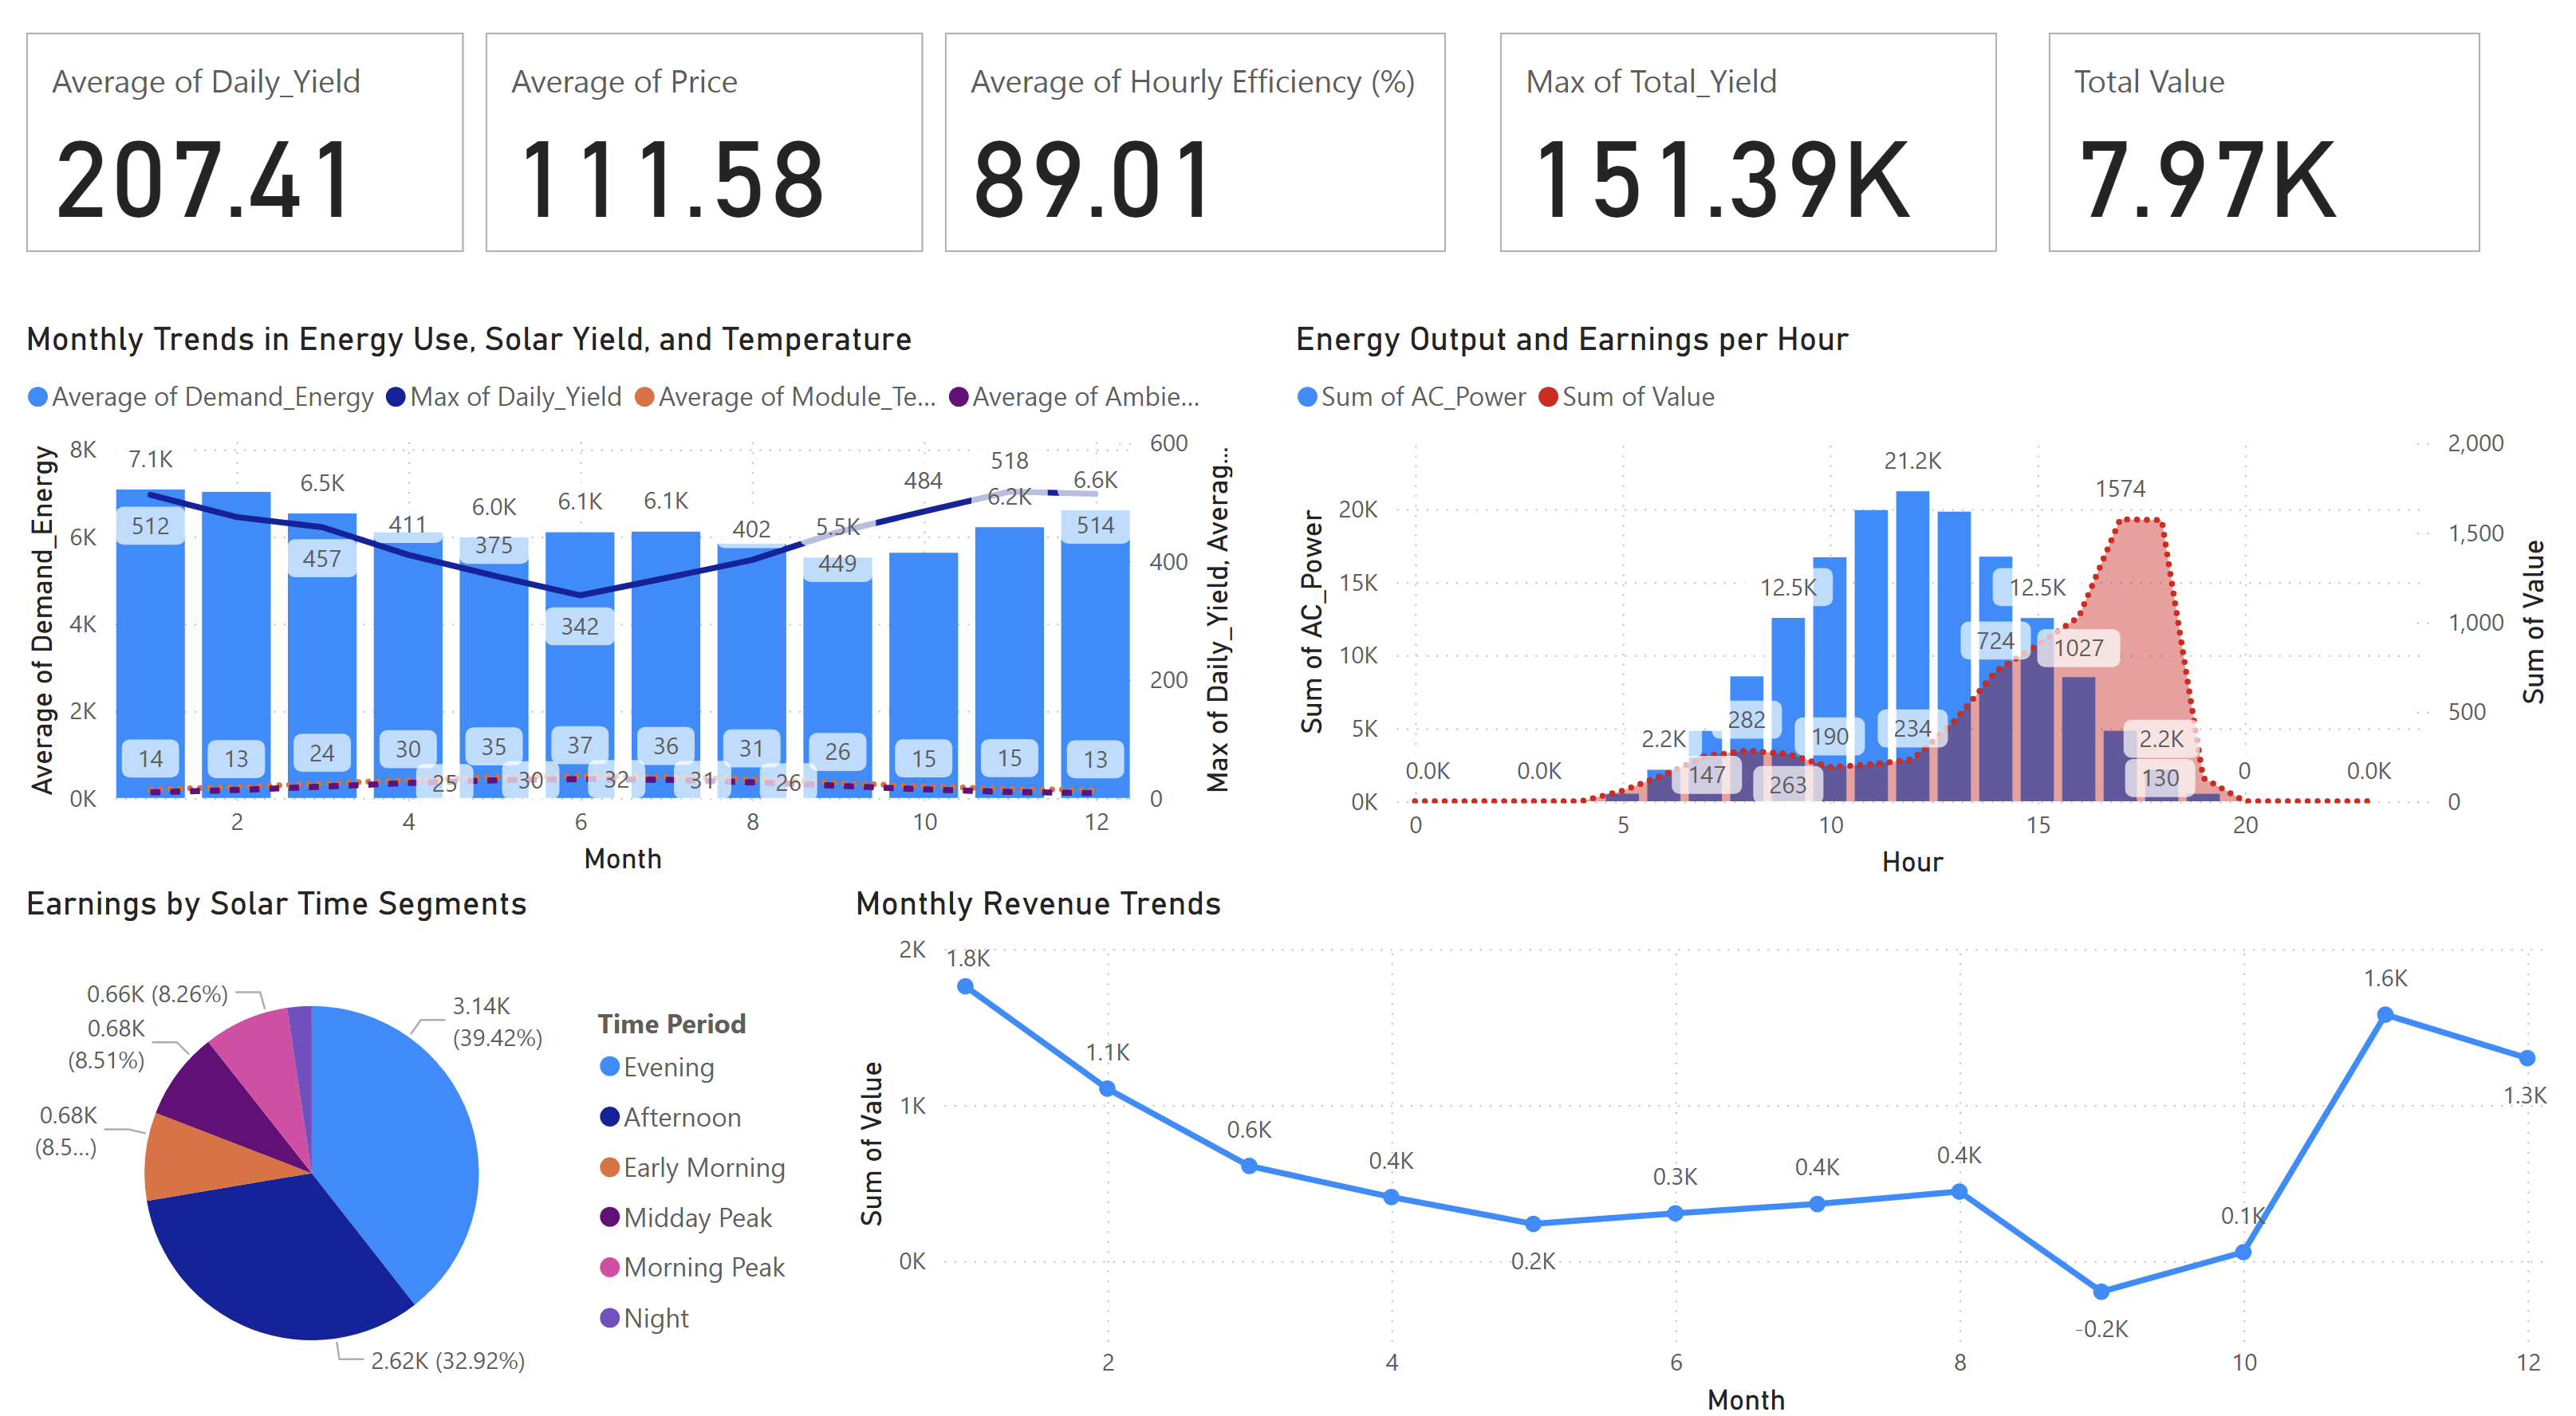

The page's visual inventory and layout, read from the dashboard file:
{"tool":"powerbi","page":{"name":"Page 1","canvas":[1280,720],"ordinal":0},"visuals":[{"type":"cardVisual","fields":{"Data":["solar_data_open.Total Value"]},"box":[1020,13.3,228.3,121.7],"z":0},{"type":"cardVisual","fields":{"Data":["Avg(solar_data_open.Hourly Efficiency (%))"]},"box":[463.3,13.3,263.3,121.7],"z":1000},{"type":"cardVisual","fields":{"Data":["solar_data_open.Average Daily Yield (KWh)"]},"box":[0,13.3,231.7,121.7],"z":2000},{"type":"cardVisual","fields":{"Data":["annual_revenue_10_years.Revenue with ESS (AUD)"]},"box":[743.3,13.3,261.7,121.7],"z":3000},{"type":"lineStackedColumnComboChart","title":"Monthly Trends in Energy Use, Solar Yield, and Temperature","fields":{"Category":["solar_data_open.Month"],"Y2":["Max(solar_data_open.Daily_Yield)","Avg(solar_data_open.Module_Temperature)","Avg(solar_data_open.Ambient_Temperature)"],"Y":["Avg(solar_data_open.Demand_Energy)"]},"box":[0,135,663.8,315],"z":4000},{"type":"lineStackedColumnComboChart","title":"Energy Output and Earnings per Hour","fields":{"Category":["solar_data_open.Hour"],"Y":["Sum(solar_data_open.AC_Power)"],"Y2":["Sum(solar_data_open.Value)","Avg(solar_data_open.Price)","Sum(solar_battery_simulation_results.Revenue with ESS)"]},"box":[676.2,135,605,315],"z":5000},{"type":"cardVisual","fields":{"Data":["solar_data_open.Grid Avarage Price (MWh)"]},"box":[231.7,13.3,231.7,121.7],"z":6000},{"type":"stackedAreaChart","title":"Monthly Revenue Trends","fields":{"Category":["solar_data_open.Month"],"Y":["annual_revenue_10_years.Revenue with ESS (AUD)","solar_data_open.Revenue without ESS (AUD)"]},"box":[357.5,447.5,583.8,272.5],"z":7000},{"type":"pieChart","title":"Earnings by Solar Time Segments","fields":{"Category":["solar_data_open.SolarTimePeriod"],"Y":["solar_data_open.Revenue without ESS (AUD)"]},"box":[0,448.6,357.1,272.9],"z":8000},{"type":"clusteredBarChart","fields":{"Category":["annual_revenue_10_years.Year"],"Y":["Sum(annual_revenue_10_years.ROI_%)"]},"box":[940,448.8,342.5,271.2],"z":9000}]}

Visuals, with their boxes in screenshot pixels (x1, y1, x2, y2), scaled from the page's 1280x720 canvas onto the 2576x1416 screenshot:
cardVisual - solar_data_open.Total Value: <box>2053,26,2512,265</box>
cardVisual - Avg(solar_data_open.Hourly Efficiency (%)): <box>932,26,1463,265</box>
cardVisual - solar_data_open.Average Daily Yield (KWh): <box>0,26,467,265</box>
cardVisual - annual_revenue_10_years.Revenue with ESS (AUD): <box>1496,26,2023,265</box>
"Monthly Trends in Energy Use, Solar Yield, and Temperature" lineStackedColumnComboChart: <box>0,265,1336,885</box>
"Energy Output and Earnings per Hour" lineStackedColumnComboChart: <box>1361,265,2575,885</box>
cardVisual - solar_data_open.Grid Avarage Price (MWh): <box>467,26,932,265</box>
"Monthly Revenue Trends" stackedAreaChart: <box>719,880,1894,1415</box>
"Earnings by Solar Time Segments" pieChart: <box>0,883,719,1415</box>
clusteredBarChart - annual_revenue_10_years.Year x Sum(annual_revenue_10_years.ROI_%): <box>1892,883,2575,1415</box>
